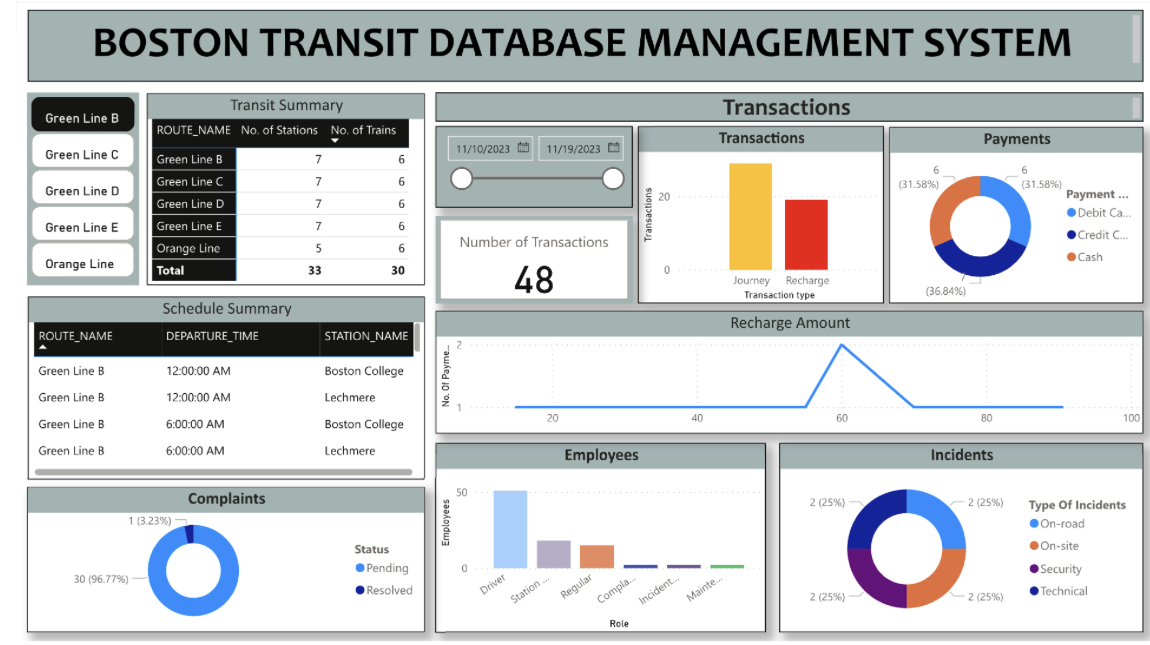

Layout of this report page (visuals, bound fields, positions):
{"tool":"powerbi","page":{"name":"Transit Insights","canvas":[1280,720],"ordinal":0},"visuals":[{"type":"textbox","box":[12.7,9.3,1256.1,81],"z":0},{"type":"tableEx","title":"Schedule Summary","fields":{"Values":["VIEW_WEEKDAY_SCHEDULE_SUMMARY_BY_ROUTE.ROUTE_NAME","VIEW_WEEKDAY_SCHEDULE_SUMMARY_BY_ROUTE.DEPARTURE_TIME","VIEW_WEEKDAY_SCHEDULE_SUMMARY_BY_ROUTE.STATION_NAME"]},"box":[12.7,332,447.6,205.9],"z":1000},{"type":"pivotTable","title":"Transit Summary","fields":{"Rows":["VIEW_SUMMARY_BY_ROUTE.ROUTE_NAME"],"Values":["Sum(VIEW_SUMMARY_BY_ROUTE.NO_OF_STATIONS)","Sum(VIEW_SUMMARY_BY_ROUTE.NO_OF_TRAINS)"]},"box":[146.9,102.9,313.4,216.3],"z":2000},{"type":"advancedSlicerVisual","fields":{"Values":["VIEW_WEEKDAY_SCHEDULE_SUMMARY_BY_ROUTE.ROUTE_NAME"]},"box":[11.6,101.8,126.1,217.4],"z":3000},{"type":"columnChart","title":"Transactions","fields":{"Y":["CountNonNull(TRANSACTION.CARD_ID)"],"Category":["TRANSACTION.TRANSACTION_TYPE"]},"box":[699.8,140,277.6,200.1],"z":4000},{"type":"slicer","fields":{"Values":["TRANSACTION.TRANSACTION_TIMESTAMP"]},"box":[471.9,140,222.1,92.5],"z":5000},{"type":"donutChart","title":"Payments","fields":{"Series":["RECHARGE_TRANSACTION.PAYMENT_METHOD"],"Y":["CountNonNull(RECHARGE_TRANSACTION.PAYMENT_ID)"]},"box":[983.1,141.1,285.7,198.9],"z":6000},{"type":"textbox","box":[471.9,101.8,796.9,33.5],"z":7000},{"type":"cardVisual","fields":{"Data":["CountNonNull(TRANSACTION.TRANSACTION_ID)"]},"box":[471.9,240.6,222.1,99.5],"z":8000},{"type":"columnChart","title":"Employees","fields":{"Y":["CountNonNull(EMPLOYEE.EMPLOYEE_ID)"],"Category":["EMPLOYEE.ROLE"]},"box":[471.9,497.4,372.4,212.8],"z":9000},{"type":"donutChart","title":"Incidents","fields":{"Y":["CountNonNull(VIEW_INCIDENTS_BY_DATE.INCIDENT_ID)"],"Category":["VIEW_INCIDENTS_BY_DATE.TYPE"]},"box":[859.4,497.4,409.4,212.8],"z":10000},{"type":"donutChart","title":"Complaints","fields":{"Category":["COMPLAINTS.RESOLUTION_STATUS"],"Y":["CountNonNull(COMPLAINTS.COMPLAINT_ID)"]},"box":[11.6,545.9,448.8,164.2],"z":11000},{"type":"lineChart","title":"Recharge Amount","fields":{"Category":["RECHARGE_TRANSACTION.RECHARGE_AMOUNT"],"Y":["CountNonNull(RECHARGE_TRANSACTION.PAYMENT_ID)"]},"box":[471.9,348.1,796.9,137.6],"z":12000}]}

Visuals, with their boxes in screenshot pixels (x1, y1, x2, y2), scaled from the page's 1280x720 canvas onto the 1150x645 screenshot:
textbox: BBox(11, 8, 1140, 81)
"Schedule Summary" tableEx: BBox(11, 297, 414, 482)
"Transit Summary" pivotTable: BBox(132, 92, 414, 286)
advancedSlicerVisual - VIEW_WEEKDAY_SCHEDULE_SUMMARY_BY_ROUTE.ROUTE_NAME: BBox(10, 91, 124, 286)
"Transactions" columnChart: BBox(629, 125, 878, 305)
slicer - TRANSACTION.TRANSACTION_TIMESTAMP: BBox(424, 125, 624, 208)
"Payments" donutChart: BBox(883, 126, 1140, 305)
textbox: BBox(424, 91, 1140, 121)
cardVisual - CountNonNull(TRANSACTION.TRANSACTION_ID): BBox(424, 216, 624, 305)
"Employees" columnChart: BBox(424, 446, 759, 636)
"Incidents" donutChart: BBox(772, 446, 1140, 636)
"Complaints" donutChart: BBox(10, 489, 414, 636)
"Recharge Amount" lineChart: BBox(424, 312, 1140, 435)
